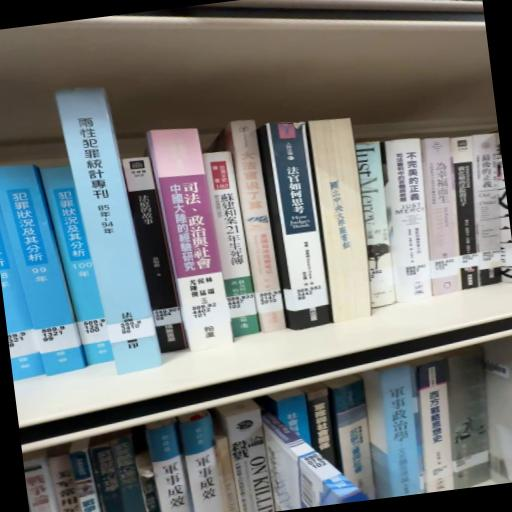backward: (308, 117, 380, 328)
book: (56, 83, 165, 382), (151, 124, 240, 354), (1, 159, 87, 385), (266, 119, 338, 333), (226, 122, 285, 338), (125, 157, 184, 323)
